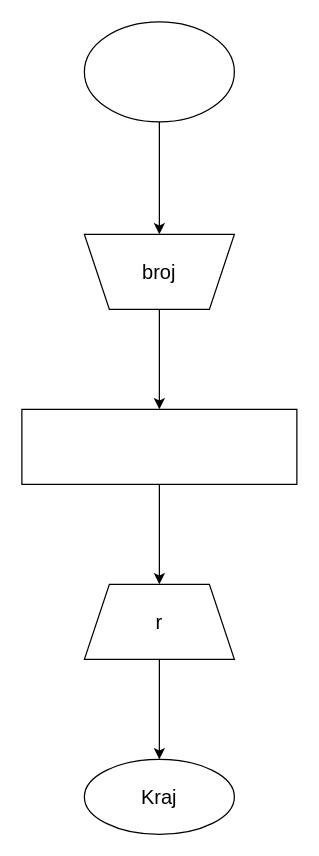
Some shapes in this 319 by 856 pixel diagram are drawn without their labels. The centre of each missing label's shape, as x and y in pixels:
"Početak" belongs at point 158,71.
"r = broj / 10 - broj % 10" belongs at point 159,446.
